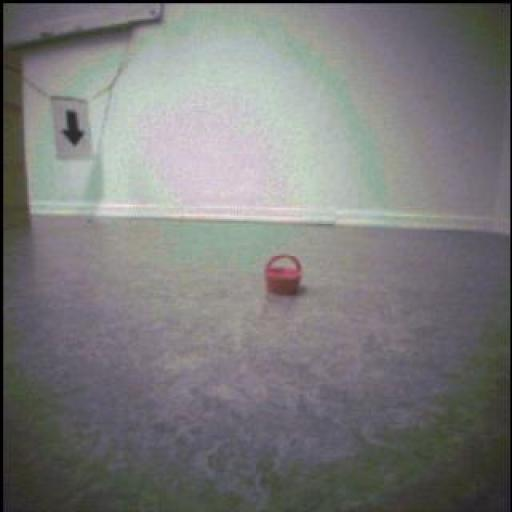Arrow: (64, 112, 85, 147)
Bucket: (264, 256, 306, 297)
